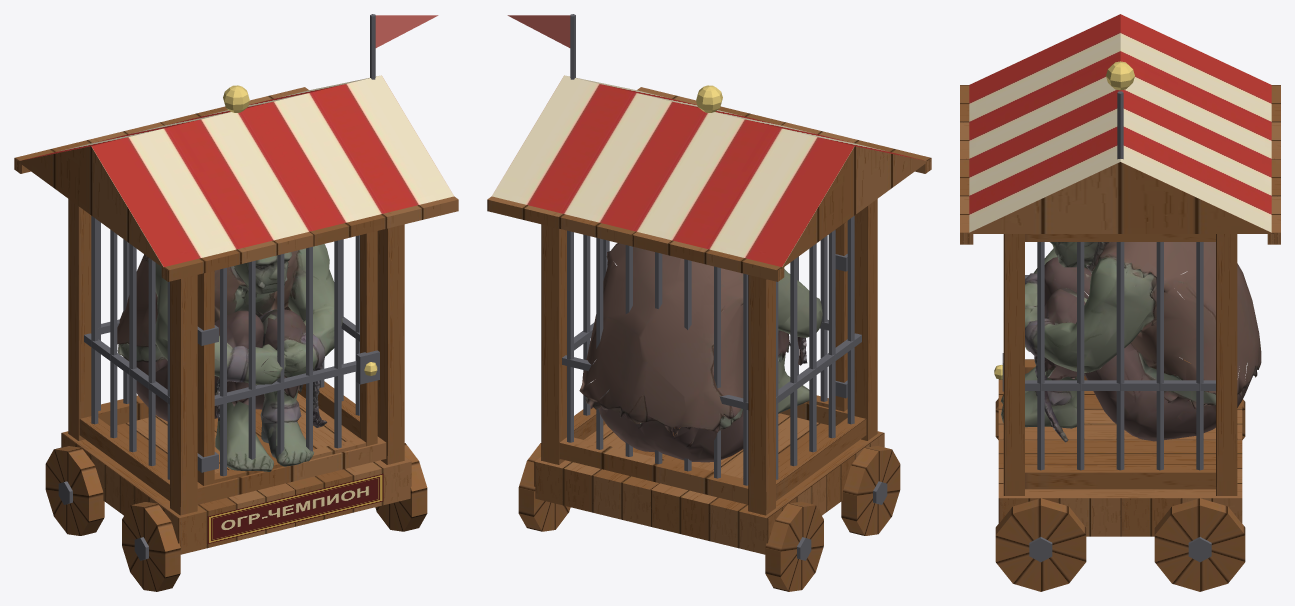
The model's file is show_cage.glb.
The picture shows the model from 3 angles, left to right: view 1: azimuth 30°, elevation 25°; view 2: azimuth 150°, elevation 25°; view 3: azimuth 270°, elevation 25°; orthographic projection. The views are drawn at different scales.
Parts seen in each view (by area): view 1: cage_frame, cage_door; view 2: cage_frame, cage_door; view 3: cage_frame.
Boxes of the visible parts, x1=… form: cage_frame: x1=14, y1=14, x2=458, y2=591; cage_door: x1=197, y1=231, x2=379, y2=485; cage_frame: x1=487, y1=14, x2=931, y2=591; cage_door: x1=797, y1=221, x2=847, y2=411; cage_frame: x1=960, y1=14, x2=1280, y2=591.
Bounding box in the file's own units: 1.58 × 2.09 × 1.21.
7 materials, 4 textured.
